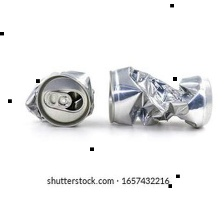can: (102, 64, 215, 131), (23, 66, 96, 133)
